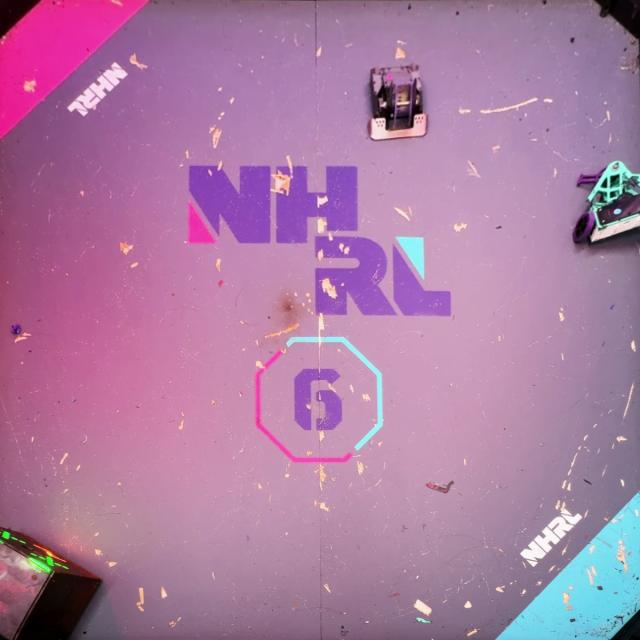housebot: (0, 525, 105, 640)
robot: (573, 157, 640, 250), (367, 62, 430, 142)
